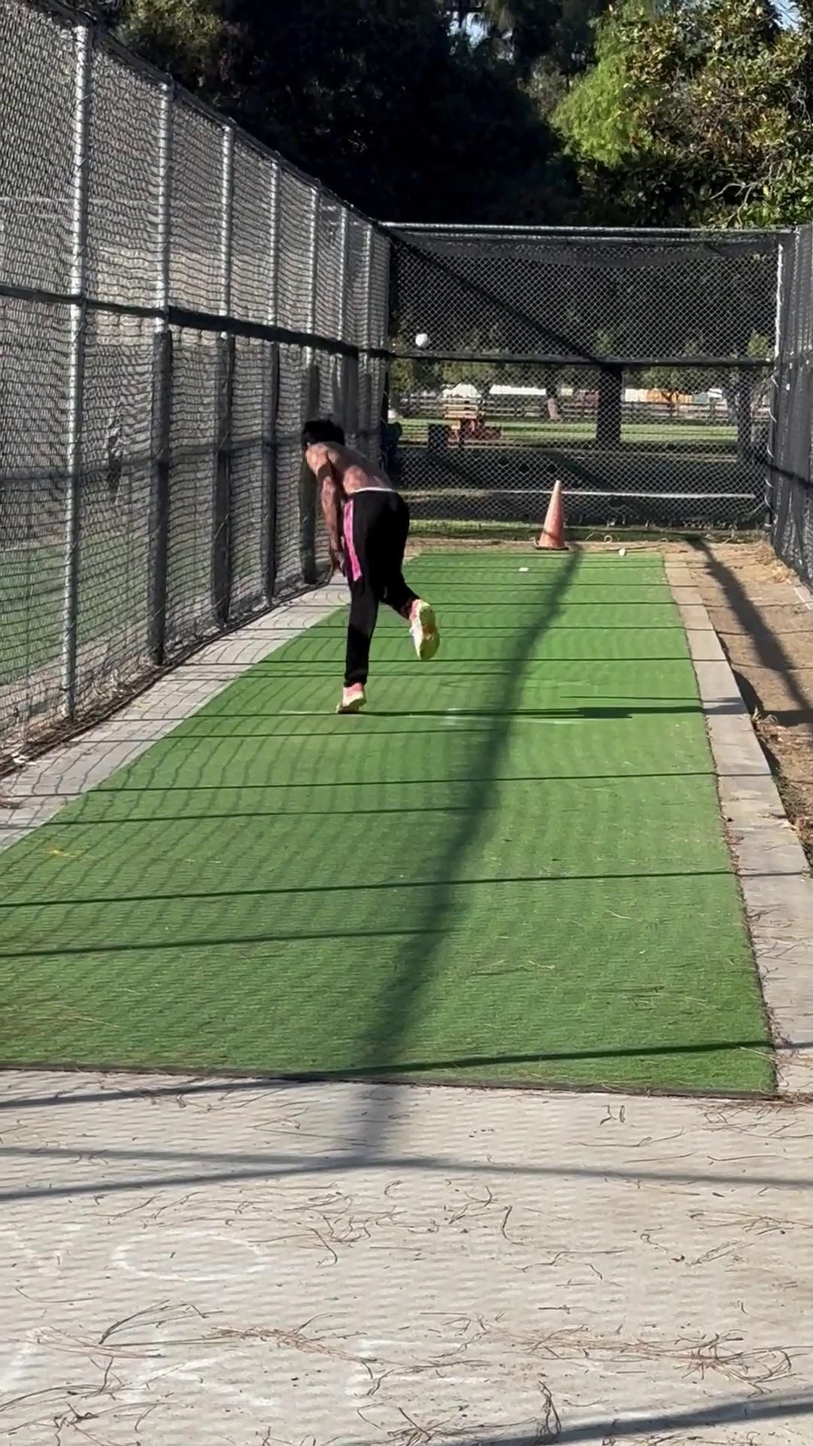ball: (410, 328, 435, 353)
